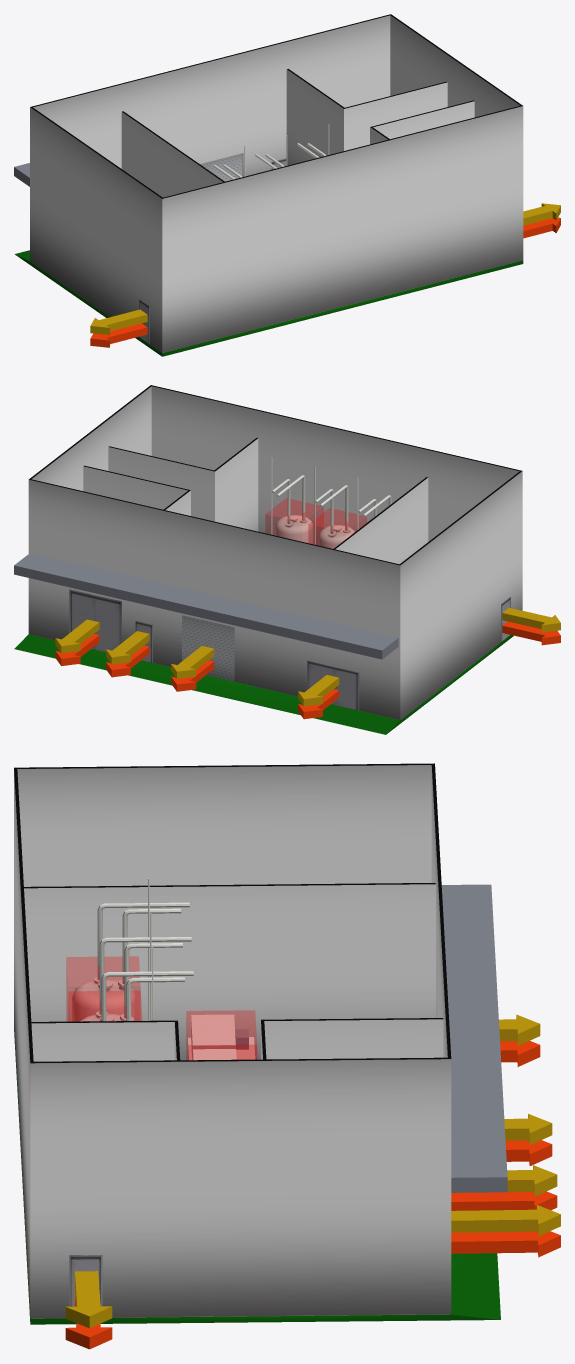
Rendered from soulbrain_UP-5-1F.glb.
The picture shows the model from 3 angles, top to bottom: view 1: azimuth 30°, elevation 25°; view 2: azimuth 150°, elevation 25°; view 3: azimuth 270°, elevation 25°; orthographic projection. The views are drawn at different scales.
Visible parts, largest first — view 1: Box635, Box639, arrow_Y_6_UP-5-1F, arrow_R_6_UP-5-1F, Box638, arrow_Y_5_UP-5-1F, arrow_R_5_UP-5-1F; view 2: Box635, Box639, UP-5-1F, Box638, equipment-UP-5-1F-003, ChamferCyl146, equipment-UP-5-1F-002, ChamferCyl145, arrow_Y_6_UP-5-1F, arrow_Y_4_UP-5-1F, arrow_Y_3_UP-5-1F, arrow_Y_2_UP-5-1F (+6 smaller); view 3: Box635, Box639, equipment-UP-5-1F-001, ChamferCyl144, equipment-UP-5-1F-004, Group235, arrow_Y_4_UP-5-1F, arrow_R_4_UP-5-1F, arrow_R_3_UP-5-1F, equipment-UP-5-1F-002, ChamferCyl145, arrow_Y_5_UP-5-1F (+9 smaller).
Boxes of the visible parts, box(x1,y1,x2,y2) form: Box635: box(14, 14, 523, 352); Box639: box(14, 250, 523, 356); arrow_Y_6_UP-5-1F: box(90, 309, 147, 334); arrow_R_6_UP-5-1F: box(90, 323, 147, 347); Box638: box(200, 153, 242, 181); arrow_Y_5_UP-5-1F: box(523, 203, 560, 225); arrow_R_5_UP-5-1F: box(523, 217, 560, 238); Box635: box(14, 385, 522, 719); Box639: box(14, 634, 513, 734); UP-5-1F: box(69, 589, 510, 710); Box638: box(182, 615, 234, 681); equipment-UP-5-1F-003: box(265, 498, 323, 544); ChamferCyl146: box(271, 457, 313, 543); equipment-UP-5-1F-002: box(308, 508, 366, 548); ChamferCyl145: box(314, 467, 354, 548); arrow_Y_6_UP-5-1F: box(502, 607, 560, 632); arrow_Y_4_UP-5-1F: box(55, 619, 99, 653); arrow_Y_3_UP-5-1F: box(106, 631, 149, 664); arrow_Y_2_UP-5-1F: box(171, 646, 214, 678); Box635: box(14, 763, 507, 1318); Box639: box(14, 1026, 500, 1324); equipment-UP-5-1F-001: box(66, 956, 140, 1021); ChamferCyl144: box(72, 878, 189, 1021); equipment-UP-5-1F-004: box(186, 1010, 256, 1059); Group235: box(188, 1014, 255, 1060); arrow_Y_4_UP-5-1F: box(451, 1205, 560, 1236); arrow_R_4_UP-5-1F: box(451, 1231, 560, 1257); arrow_R_3_UP-5-1F: box(451, 1191, 557, 1210); equipment-UP-5-1F-002: box(68, 991, 141, 1021); ChamferCyl145: box(80, 913, 191, 1021); arrow_Y_5_UP-5-1F: box(65, 1271, 112, 1328).
Bounding box in the file's own units: 27.47 × 8.7 × 16.5.
20 materials, 12 textured.
